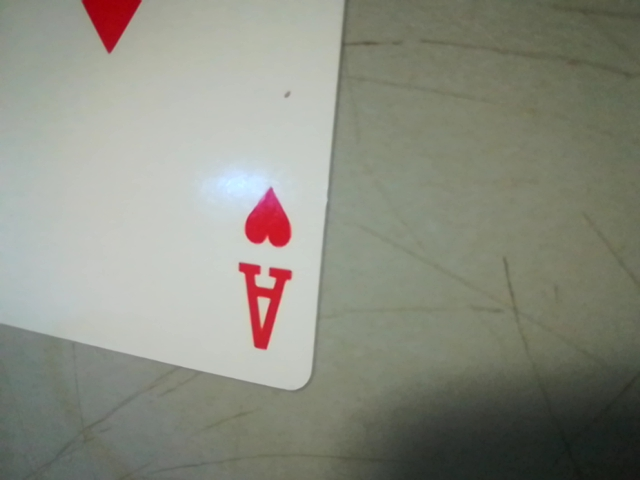hx a: (222, 178, 308, 374)
